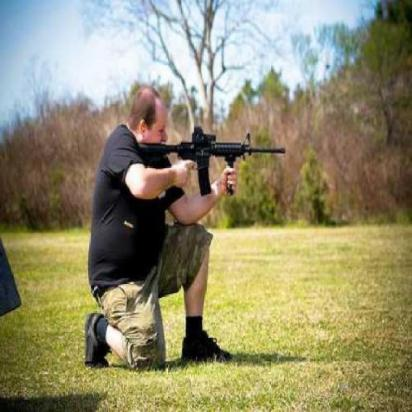Gun: (139, 133, 287, 180)
